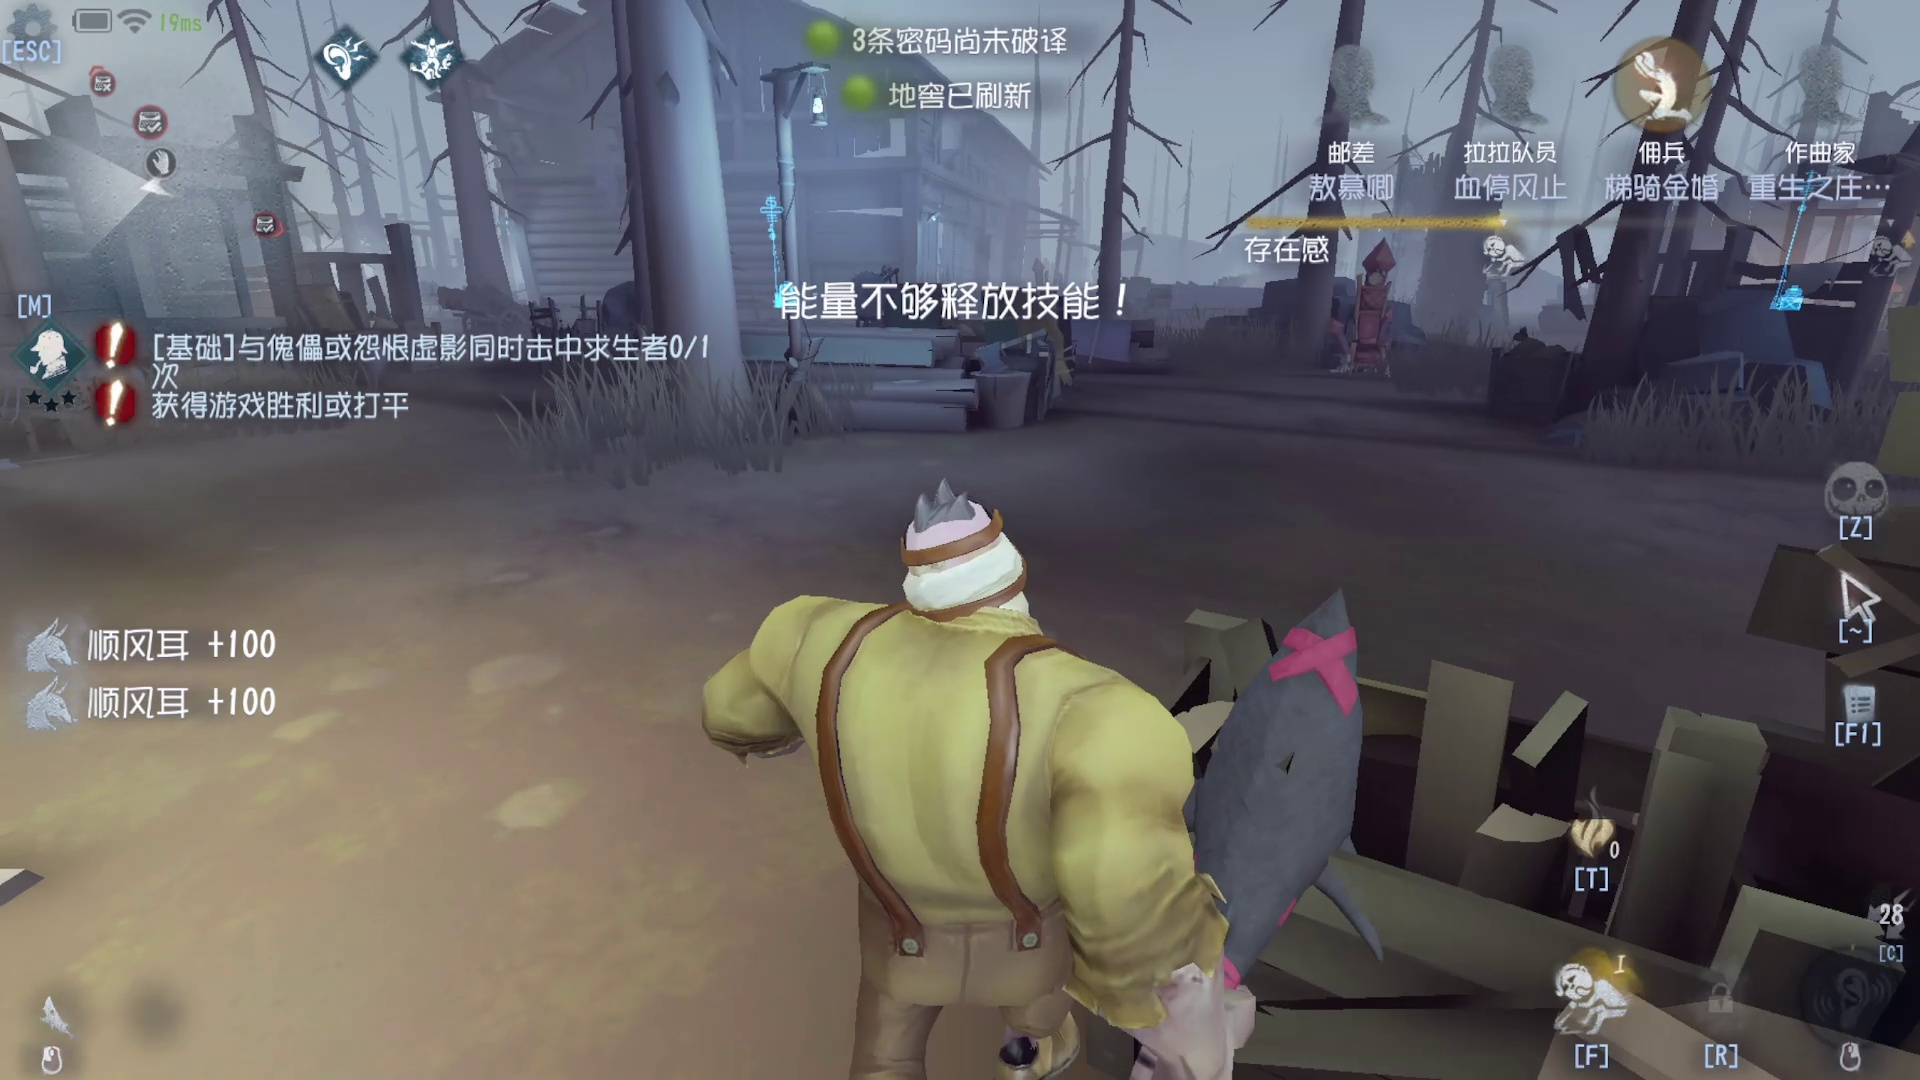密码机: (740, 167, 833, 345)
木板: (953, 272, 1117, 386)
狂欢之椅: (1329, 225, 1420, 382)
